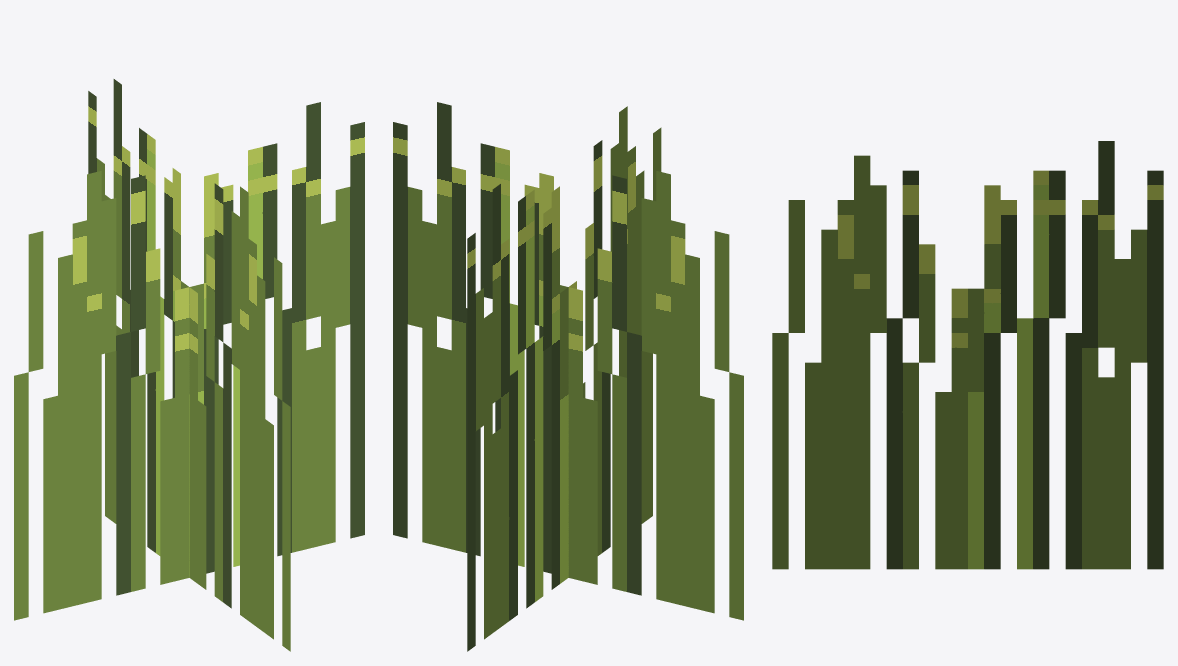
File: grass_0.glb
The picture shows the model from 3 angles, left to right: view 1: azimuth 30°, elevation 25°; view 2: azimuth 150°, elevation 25°; view 3: azimuth 270°, elevation 25°; orthographic projection. The views are drawn at different scales.
Parts seen in each view (by area): view 1: grass_0; view 2: grass_0; view 3: grass_0.
Part boxes in pixels (x1,y1,x2,y2): grass_0: (14, 79, 364, 651); grass_0: (393, 102, 743, 651); grass_0: (772, 141, 1163, 569).
Size of the model in its own units: 24 by 32 by 24.
1 material, 1 textured.
